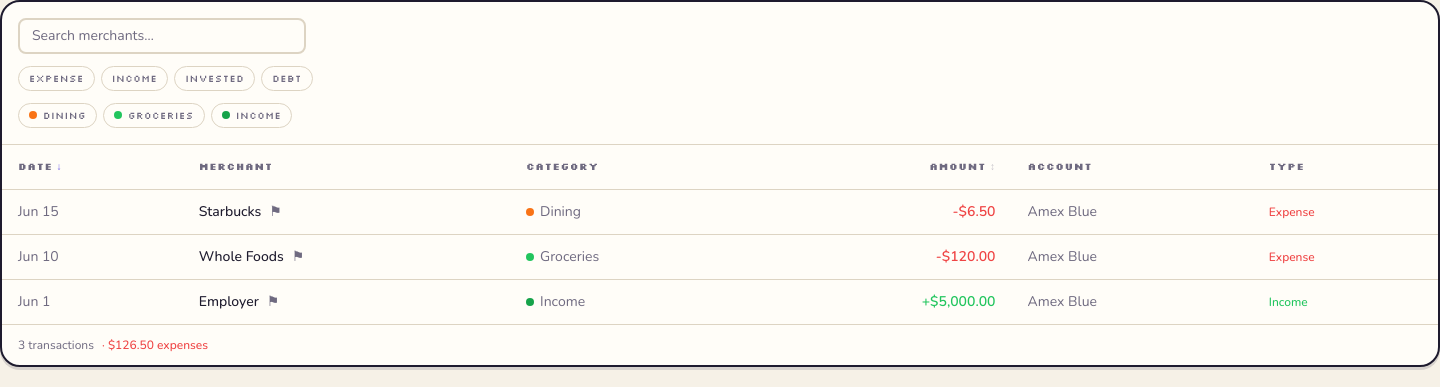
TransactionTable — type filter › filters to expense only when Expense pill is clicked
Click the button with aria-label "Filter by type: Expense" at point(56, 78), box left=18, top=66, right=95, bottom=91
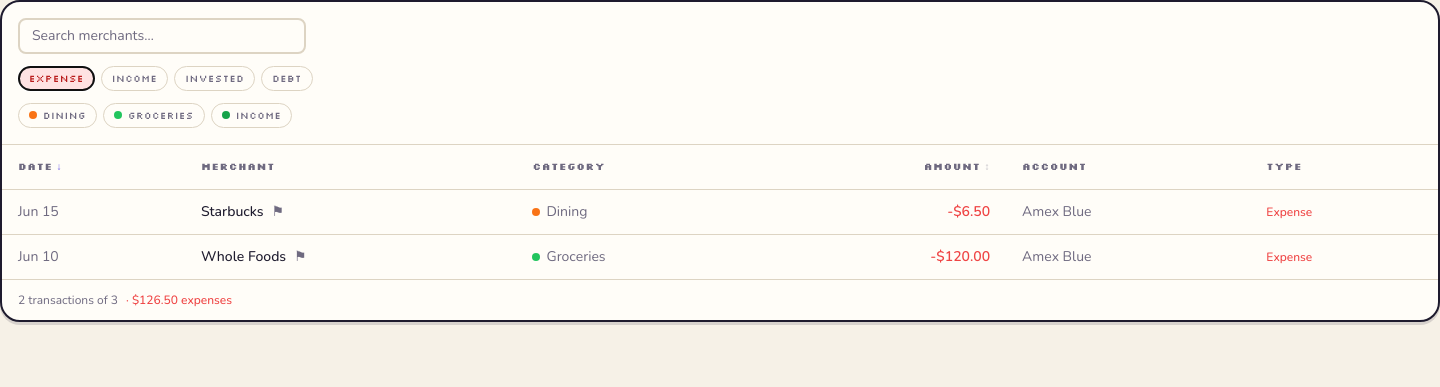
expect the text "Starbucks" is shown: met, box left=201, top=202, right=264, bottom=222
expect the text "Employer" is gone: met
